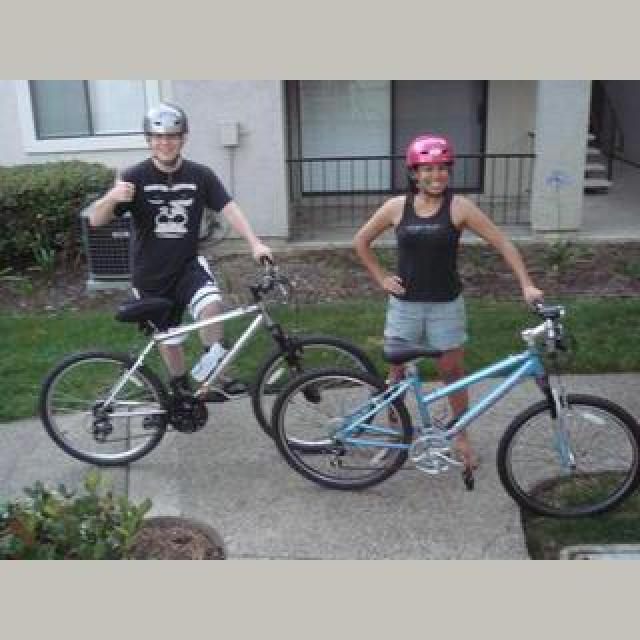MC-Bike: (352, 136, 550, 476), (82, 104, 278, 400)
Person: (276, 305, 640, 519), (39, 251, 371, 479)
